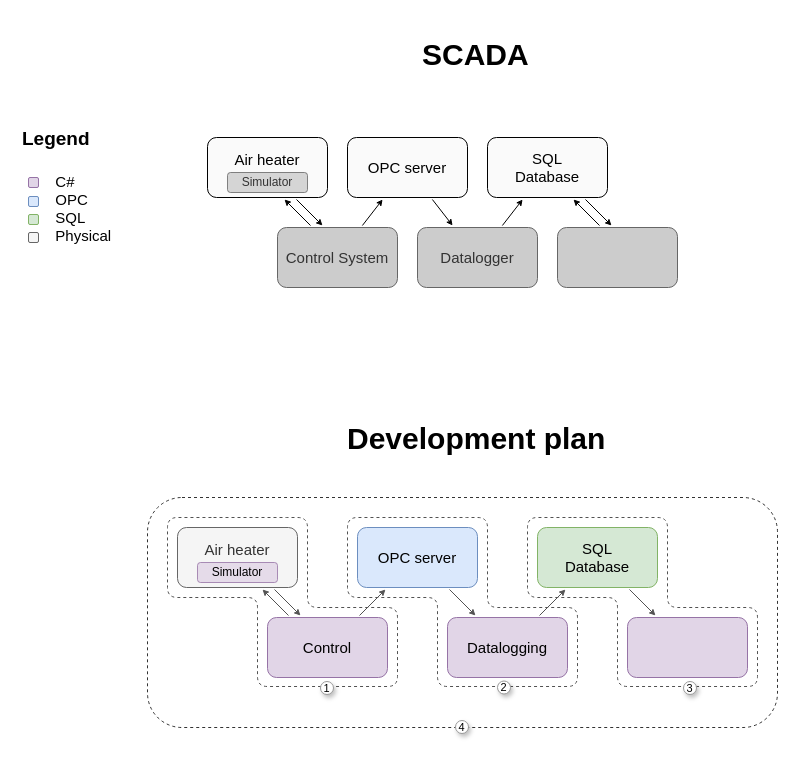
Image size: 804x758. Some labels were removed from this diagram. The centre of each missing label's shape, as x and y in pixels:
Alarm: point (687, 647)
Alarm System: point (617, 257)
